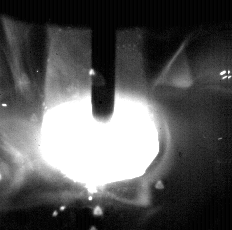arame: (92, 0, 116, 124)
poca: (37, 0, 160, 230)
